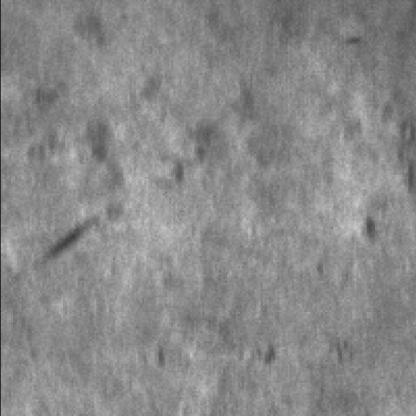rolled-in_scale: (25, 64, 204, 168), (152, 75, 272, 193), (339, 94, 412, 245), (42, 112, 124, 218)
